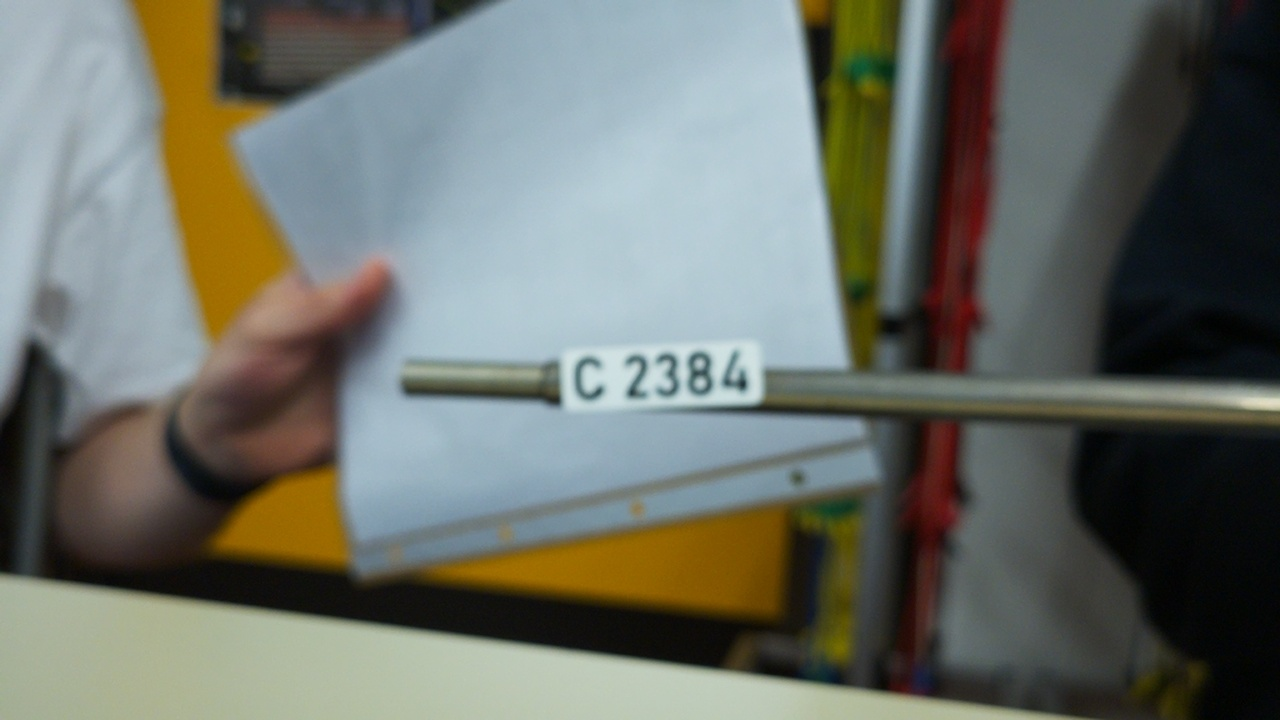license_plate: (560, 333, 766, 416)
